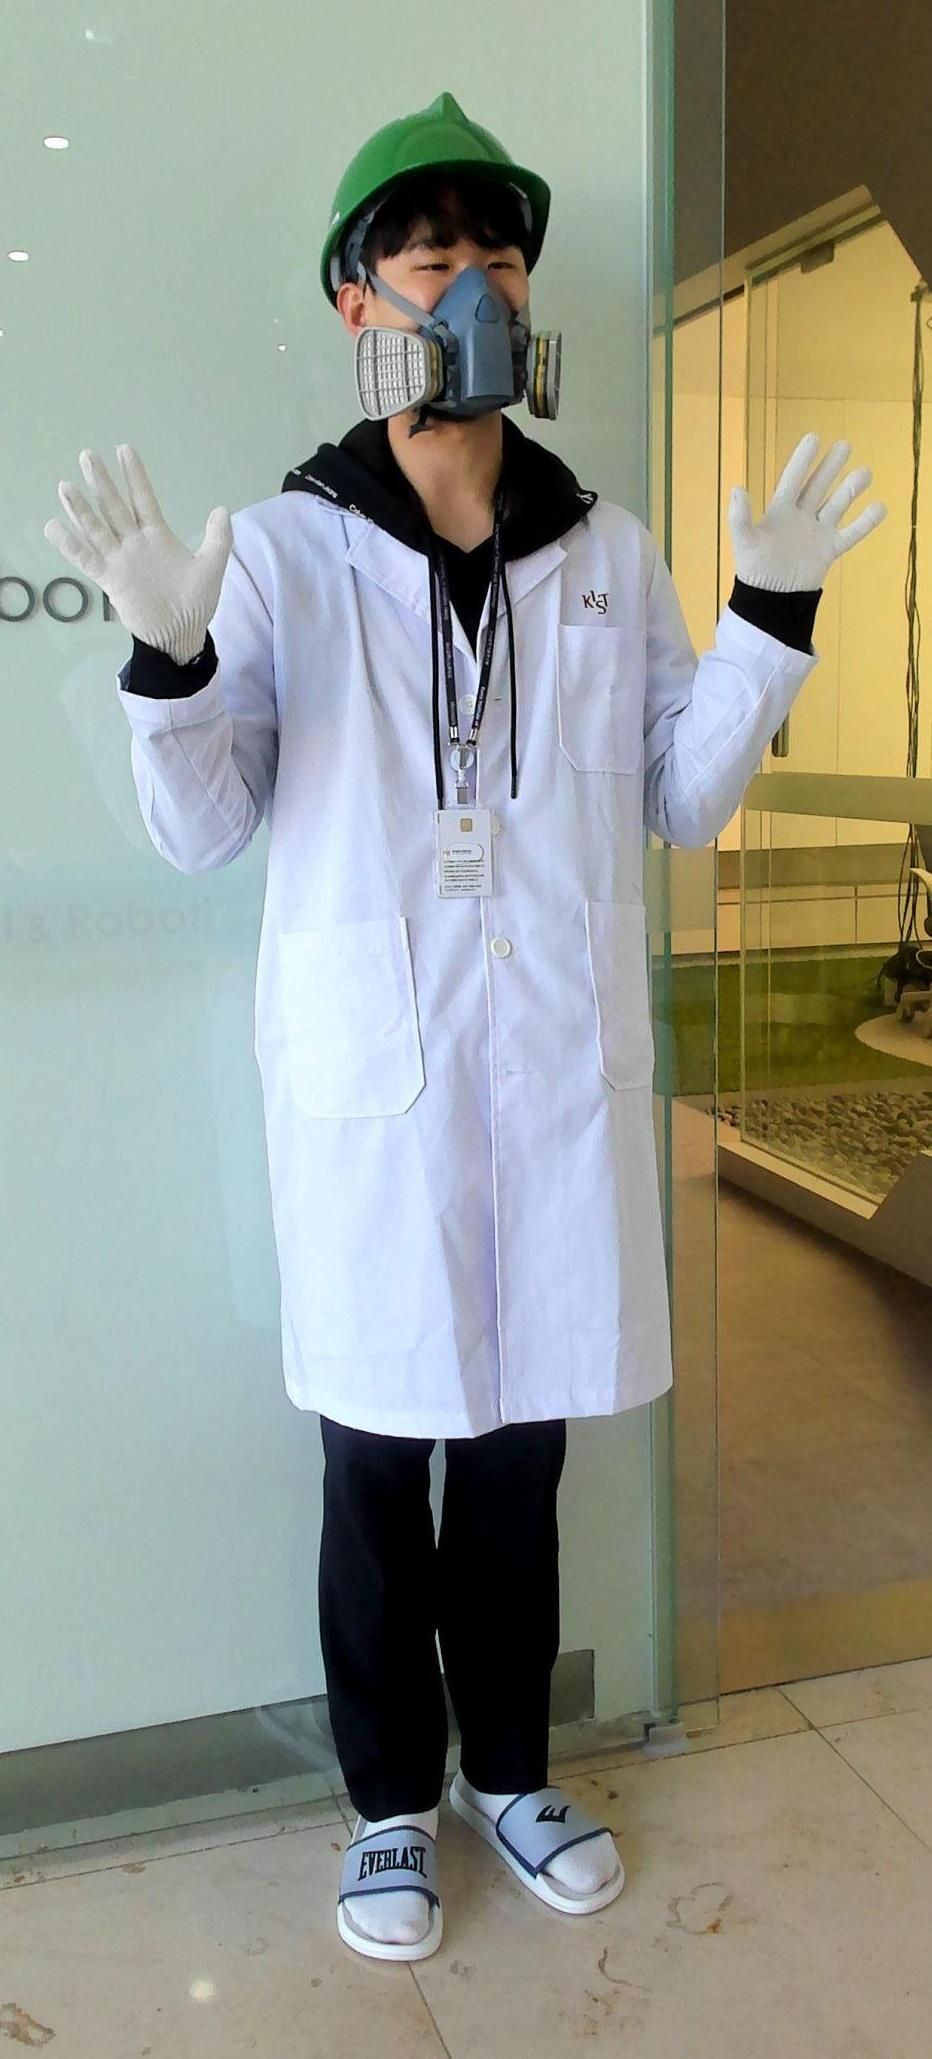lab_coat: (248, 506, 687, 1410)
